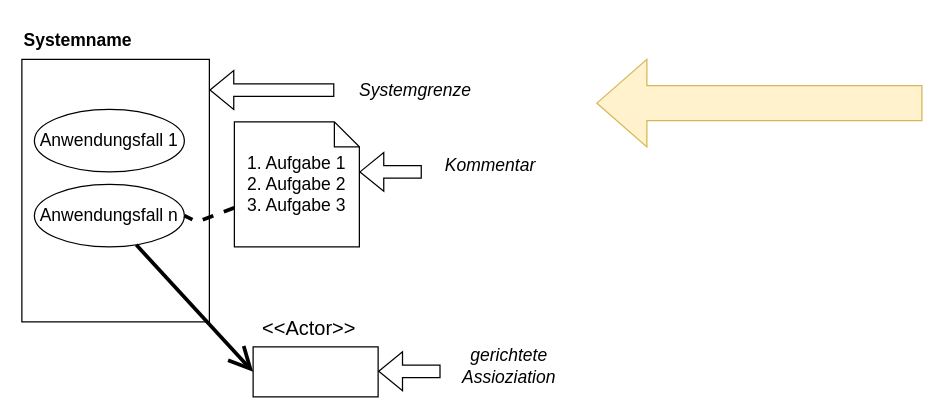
Some shapes in this 944 by 419 pixel diagram are drawn without their labels. Each missing label, with the centre of its shape:
"Drucker" goes at (315,371).
"Ich bin ein Kommentar" goes at (759,102).
